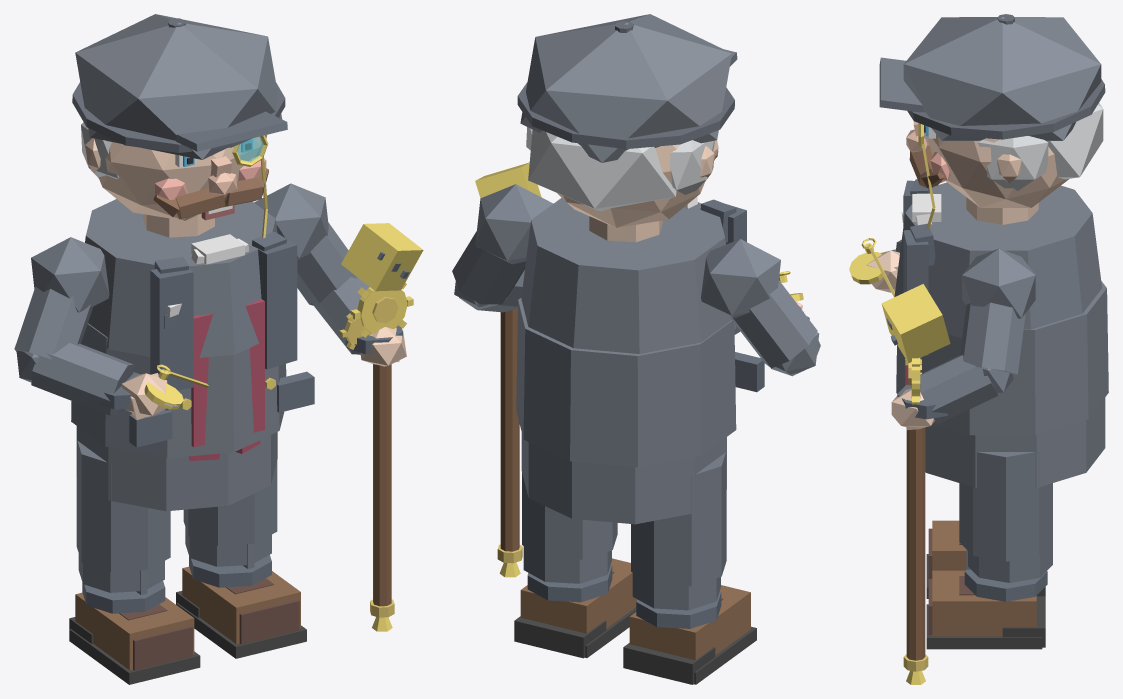
Rendered from richman.glb.
The picture shows the model from 3 angles, left to right: view 1: azimuth 30°, elevation 25°; view 2: azimuth 150°, elevation 25°; view 3: azimuth 270°, elevation 25°; orthographic projection. The views are drawn at different scales.
Parts seen in each view (by area): view 1: Richman; view 2: Richman; view 3: Richman.
Boxes of the visible parts, <box> form: Richman: <box>14,14,423,684</box>; Richman: <box>452,14,820,684</box>; Richman: <box>849,14,1108,684</box>.
Bounding box in the file's own units: 1.13 × 1.81 × 0.7205.
